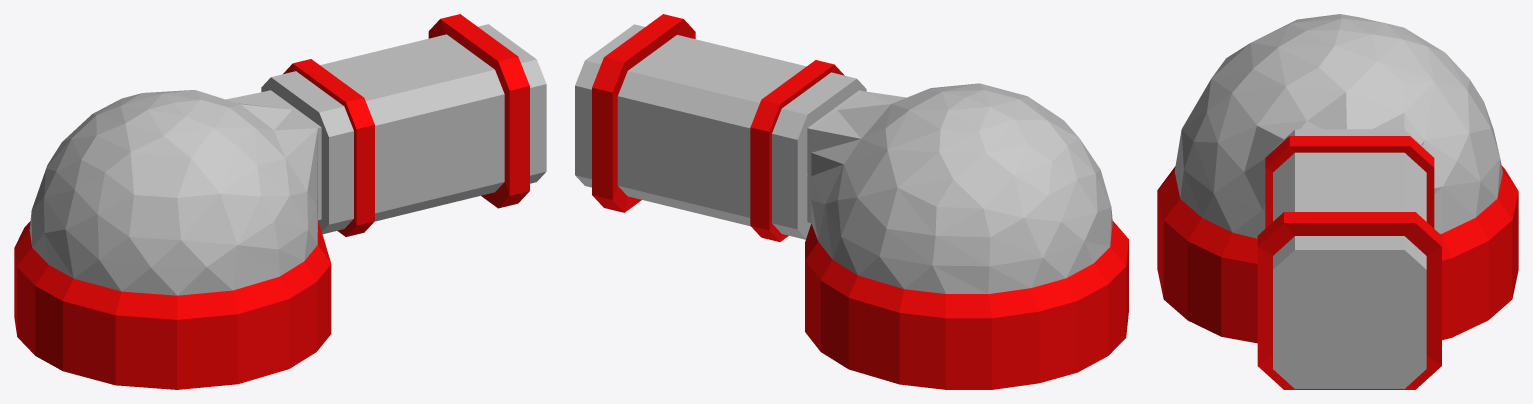
The model's file is baza.fbx.
3 views of the same model, side by side, from view 1: azimuth 30°, elevation 25°; view 2: azimuth 150°, elevation 25°; view 3: azimuth 270°, elevation 25° (orthographic). The views are drawn at different scales.
Parts seen in each view (by area): view 1: baza; view 2: baza; view 3: baza.
Boxes of the visible parts, <box> form: baza: <box>14,14,546,389</box>; baza: <box>575,14,1128,389</box>; baza: <box>1157,14,1518,389</box>.
Bounding box in the file's own units: 5763 × 2502 × 3294.
